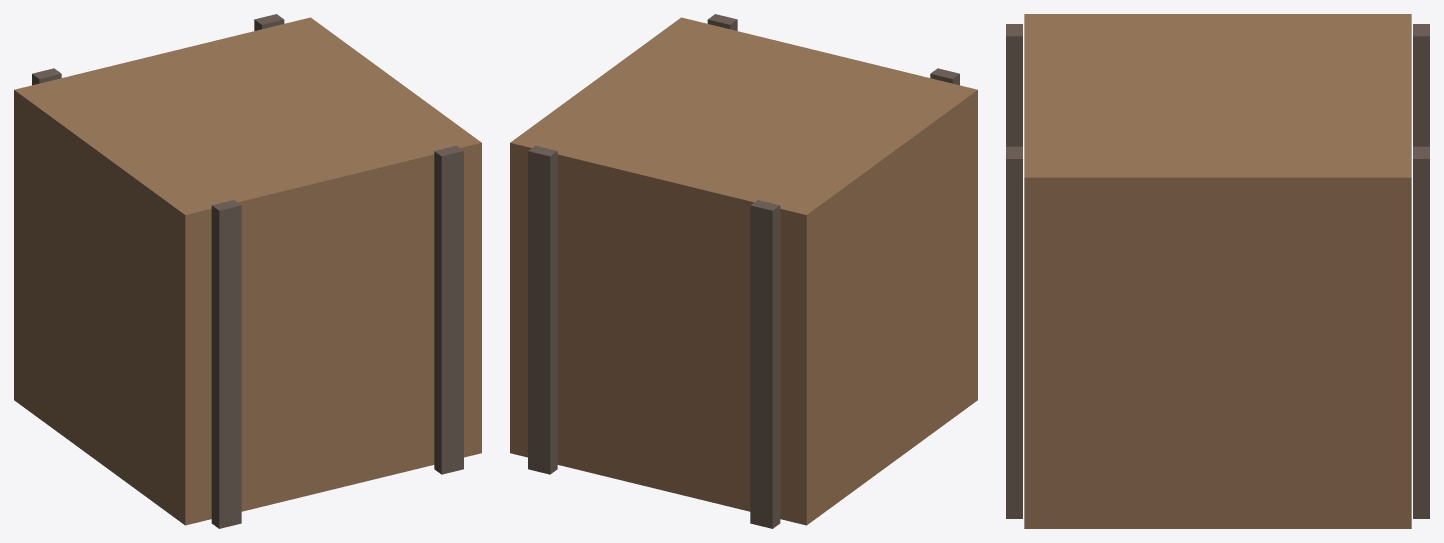
File: crate_salvage.glb
3 views of the same model, side by side, from view 1: azimuth 30°, elevation 25°; view 2: azimuth 150°, elevation 25°; view 3: azimuth 270°, elevation 25° (orthographic). The views are drawn at different scales.
Parts seen in each view (by area): view 1: crate_salvage; view 2: crate_salvage; view 3: crate_salvage.
Boxes of the visible parts, box(x1,y1,x2,y2) form: crate_salvage: box(14, 14, 481, 528); crate_salvage: box(510, 14, 977, 528); crate_salvage: box(1006, 14, 1429, 528).
Size of the model in its own units: 0.8 by 0.82 by 0.875.
